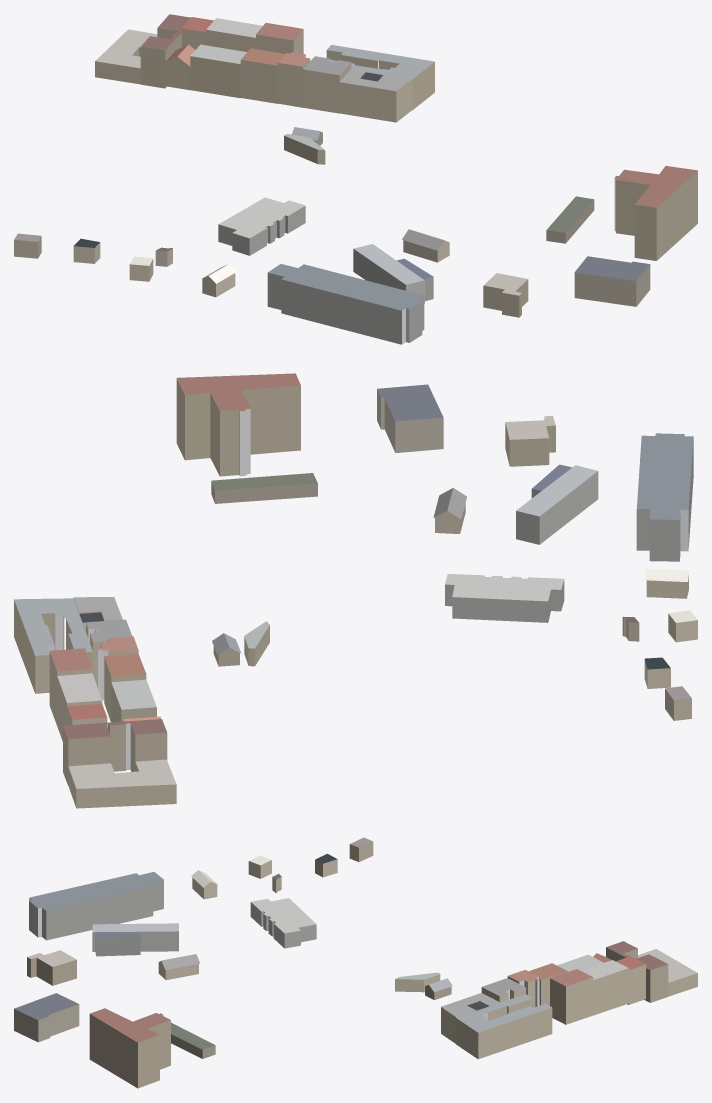
3 views of the same model, one above another, from view 1: azimuth 30°, elevation 25°; view 2: azimuth 150°, elevation 25°; view 3: azimuth 270°, elevation 25° (orthographic). The views are drawn at different scales.
Visible parts, largest first — view 1: tuile; view 2: tuile; view 3: tuile.
Boxes of the visible parts, x1,y1,x2,y2 form: tuile: (14, 14, 697, 344); tuile: (14, 373, 697, 808); tuile: (14, 837, 697, 1088).
Bounding box in the file's own units: 194 × 18.14 × 242.
